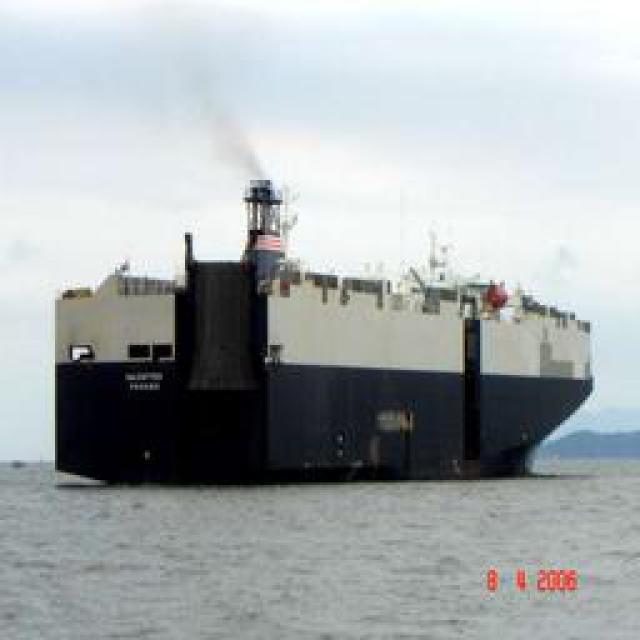Ship: (22, 249, 601, 493)
